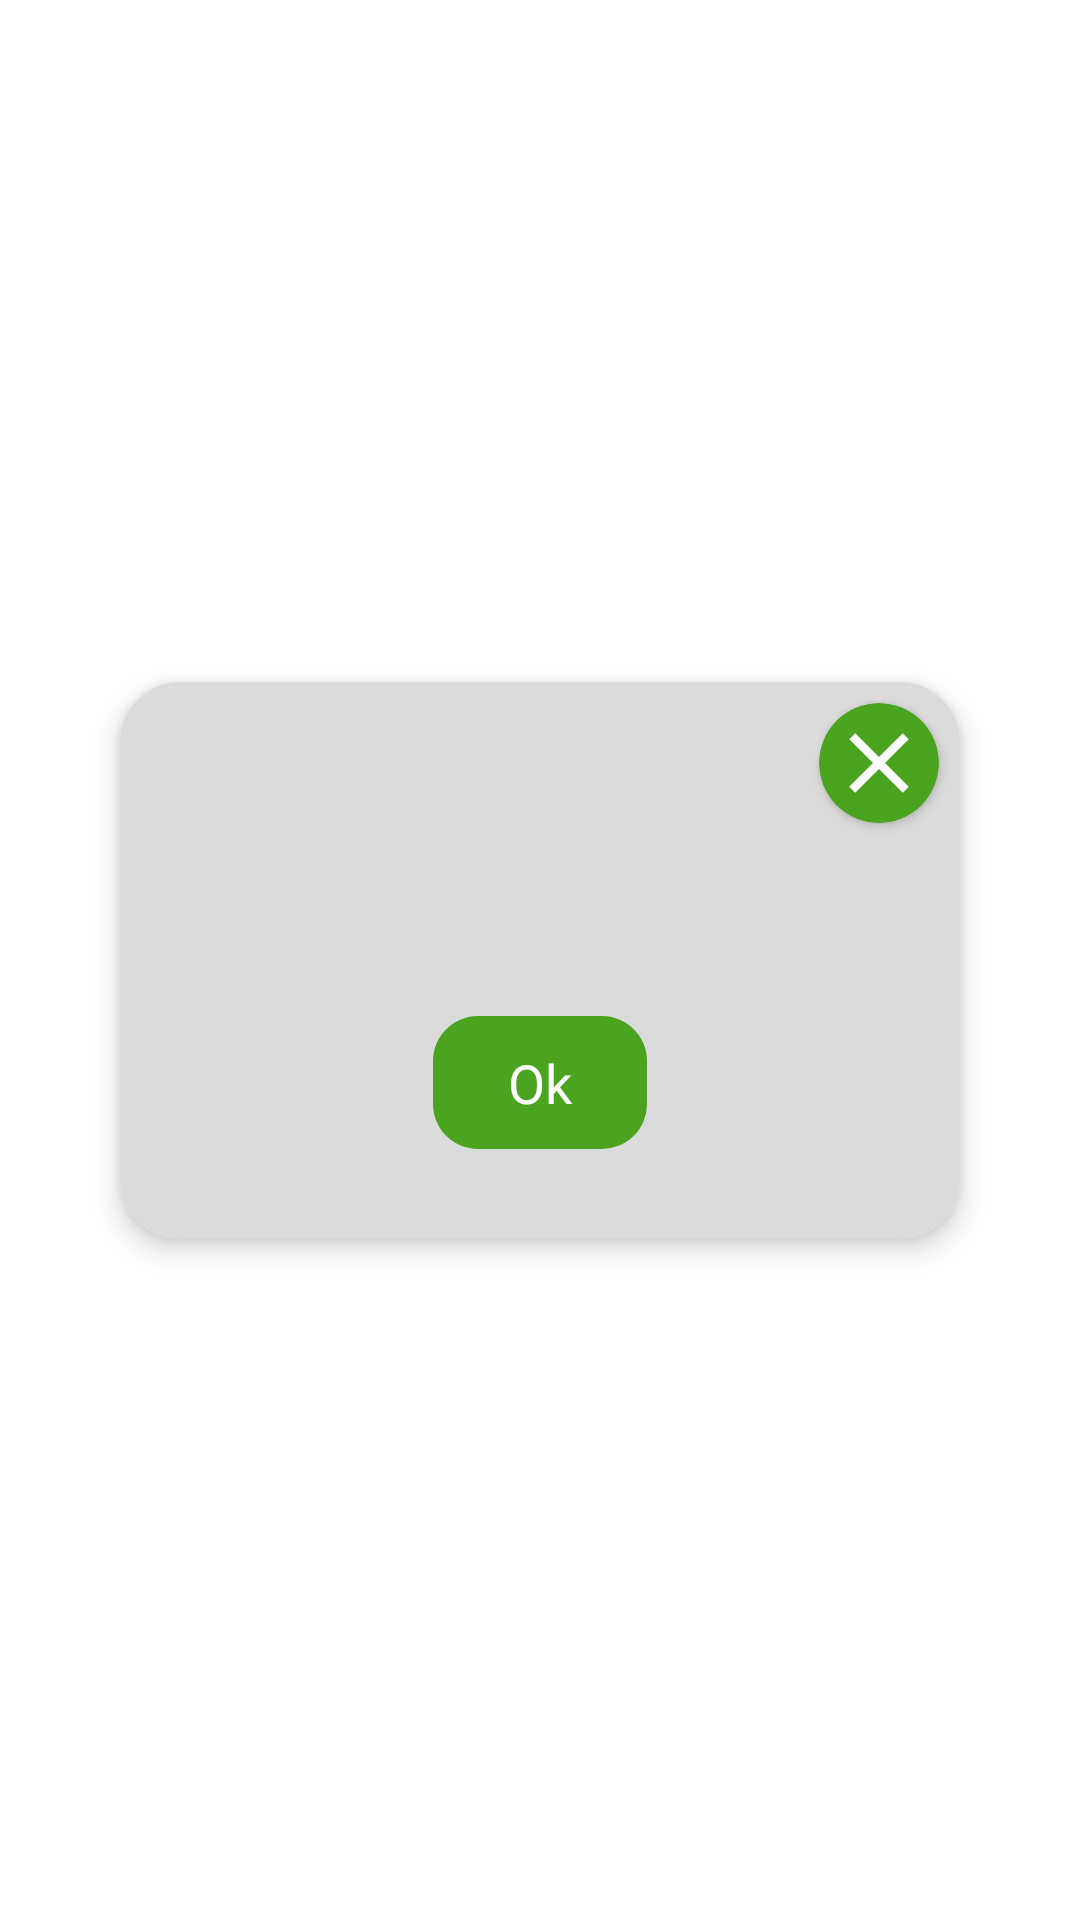

Icon bounding boxes for this 1080px×1920px phone screenshot, format region(x1, y1, x2, y2):
clear: region(819, 703, 939, 823)
